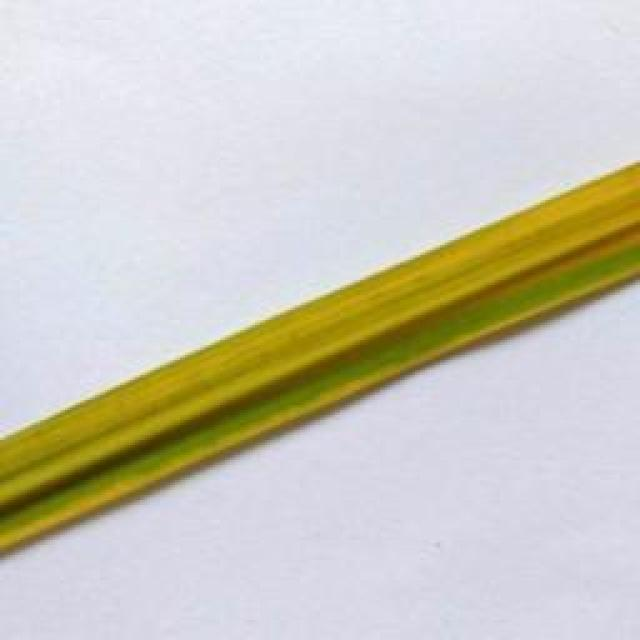Healthy-Plant: (0, 150, 640, 513)
